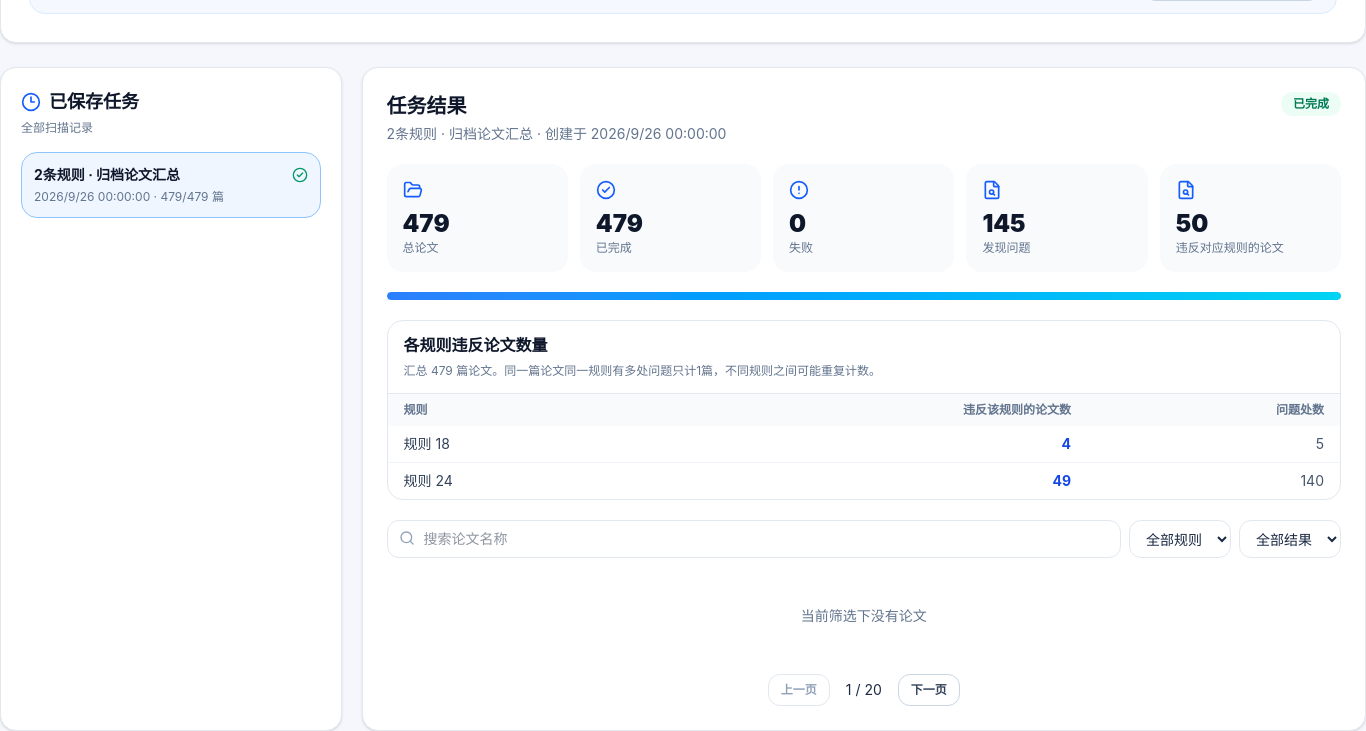
Scenario: shows one combined task and distinct-paper statistics separately from issue counts
The width and height of the screenshot is (1366, 731).
(page scrolled)
Expected: the table named "各规则违反论文数量" shows "违反该规则的论文数", [963,402,1071,417]
Expected: the table named "各规则违反论文数量" shows "49", [1052,472,1071,489]
Select "规则 18" in the dropdown named "按规则筛选" at (1180, 539), box [1129,520,1231,558]
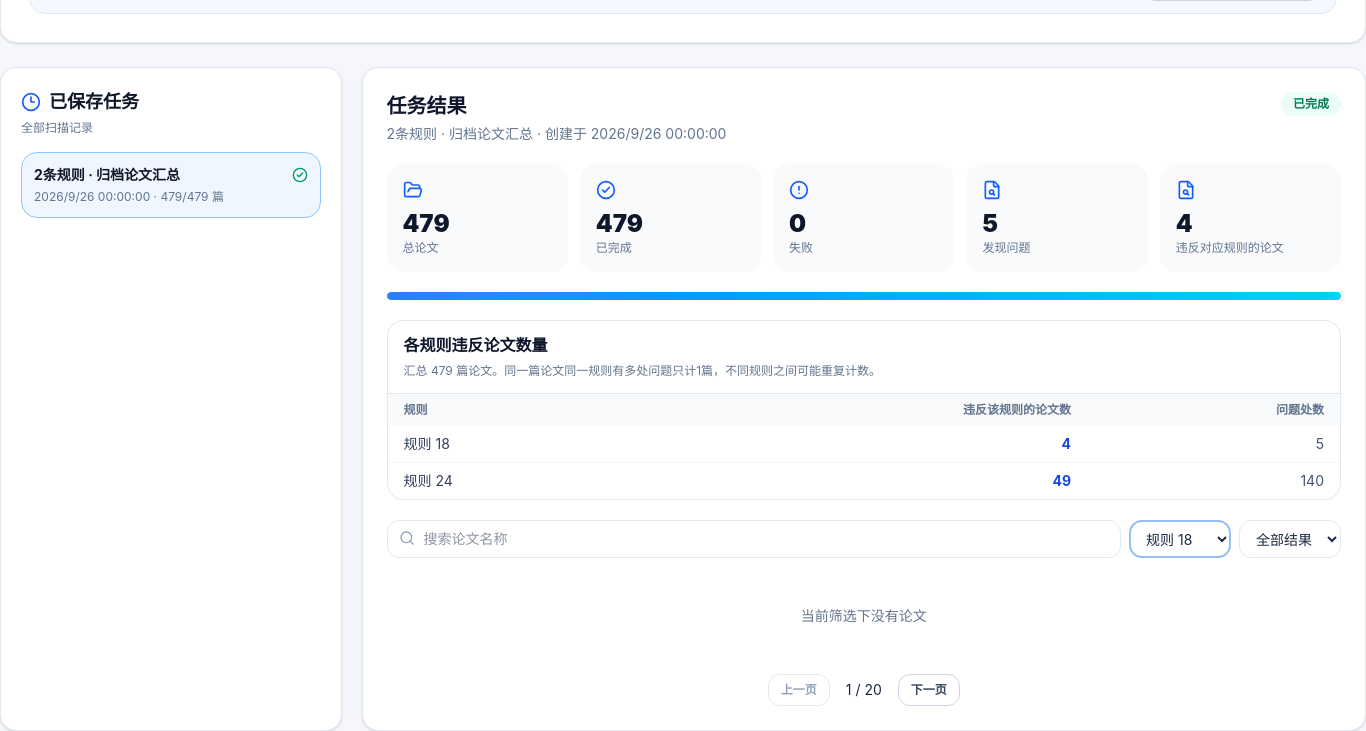
Now the text "4" is shown, box [1176,209,1193,238]
